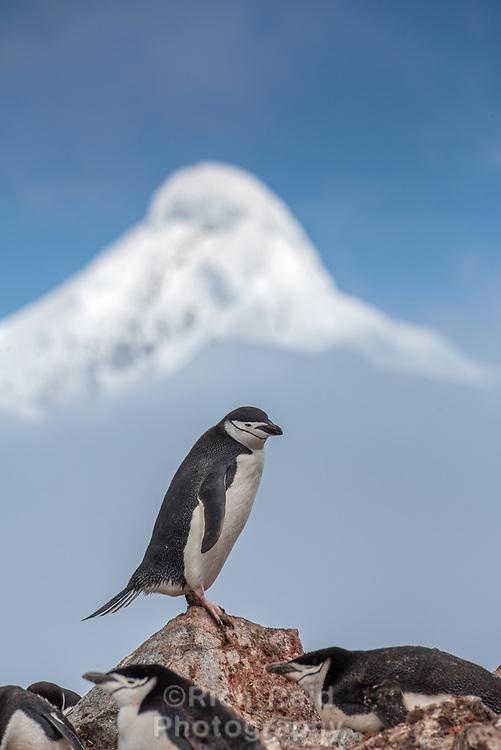chinstrap: (107, 340, 294, 660)
